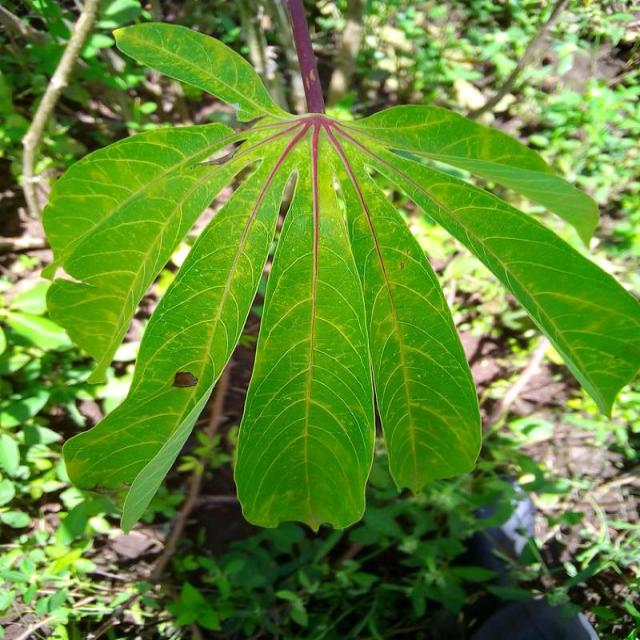cassava leaf: (41, 2, 639, 537), (62, 120, 306, 534), (234, 127, 378, 532), (335, 132, 484, 495), (41, 120, 242, 385)
